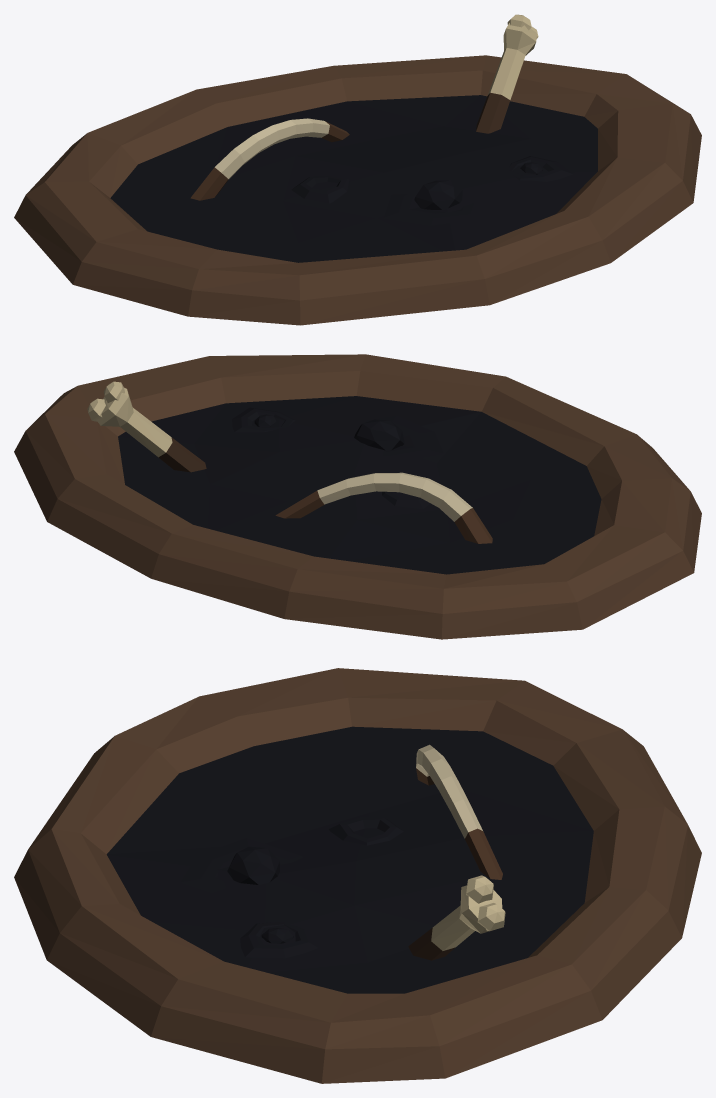
Rendered from tar-pit-d040f3.glb.
3 renders of one model, top to bottom at view 1: azimuth 30°, elevation 25°; view 2: azimuth 150°, elevation 25°; view 3: azimuth 270°, elevation 25°, orthographic. The views are drawn at different scales.
Parts seen in each view (by area): view 1: pit, tar, bone-rib, bone-femur, bubble-0-ring, bubble-0-dome, bubble-1-ring, bubble-2-ring; view 2: pit, tar, bone-rib, bone-femur, bubble-0-ring, bubble-0-dome, bubble-2-ring, bubble-1-ring; view 3: pit, tar, bone-femur, bone-rib, bubble-0-ring, bubble-2-ring, bubble-0-dome, bubble-1-ring.
Boxes of the visible parts, x1=… form: pit: x1=14, y1=55, x2=701, y2=325; tar: x1=110, y1=95, x2=597, y2=262; bone-rib: x1=190, y1=118, x2=349, y2=200; bone-femur: x1=476, y1=14, x2=538, y2=133; bubble-0-ring: x1=383, y1=194, x2=486, y2=225; bubble-0-dome: x1=414, y1=180, x2=462, y2=209; bubble-1-ring: x1=291, y1=175, x2=349, y2=203; bubble-2-ring: x1=509, y1=156, x2=572, y2=181; pit: x1=14, y1=354, x2=701, y2=639; tar: x1=118, y1=396, x2=601, y2=574; bone-rib: x1=275, y1=472, x2=492, y2=543; bone-femur: x1=87, y1=381, x2=206, y2=472; bubble-0-ring: x1=366, y1=416, x2=443, y2=462; bubble-0-dome: x1=354, y1=419, x2=404, y2=450; bubble-2-ring: x1=232, y1=407, x2=295, y2=432; bubble-1-ring: x1=382, y1=491, x2=430, y2=508; pit: x1=14, y1=668, x2=701, y2=1083; tar: x1=106, y1=726, x2=593, y2=993; bone-femur: x1=408, y1=875, x2=505, y2=960; bone-rib: x1=416, y1=744, x2=502, y2=879; bubble-0-ring: x1=180, y1=838, x2=302, y2=893; bubble-2-ring: x1=240, y1=922, x2=317, y2=958; bubble-0-dome: x1=227, y1=846, x2=279, y2=884; bubble-1-ring: x1=329, y1=817, x2=403, y2=845.
Bounding box in the file's own units: 4 × 0.6332 × 3.
